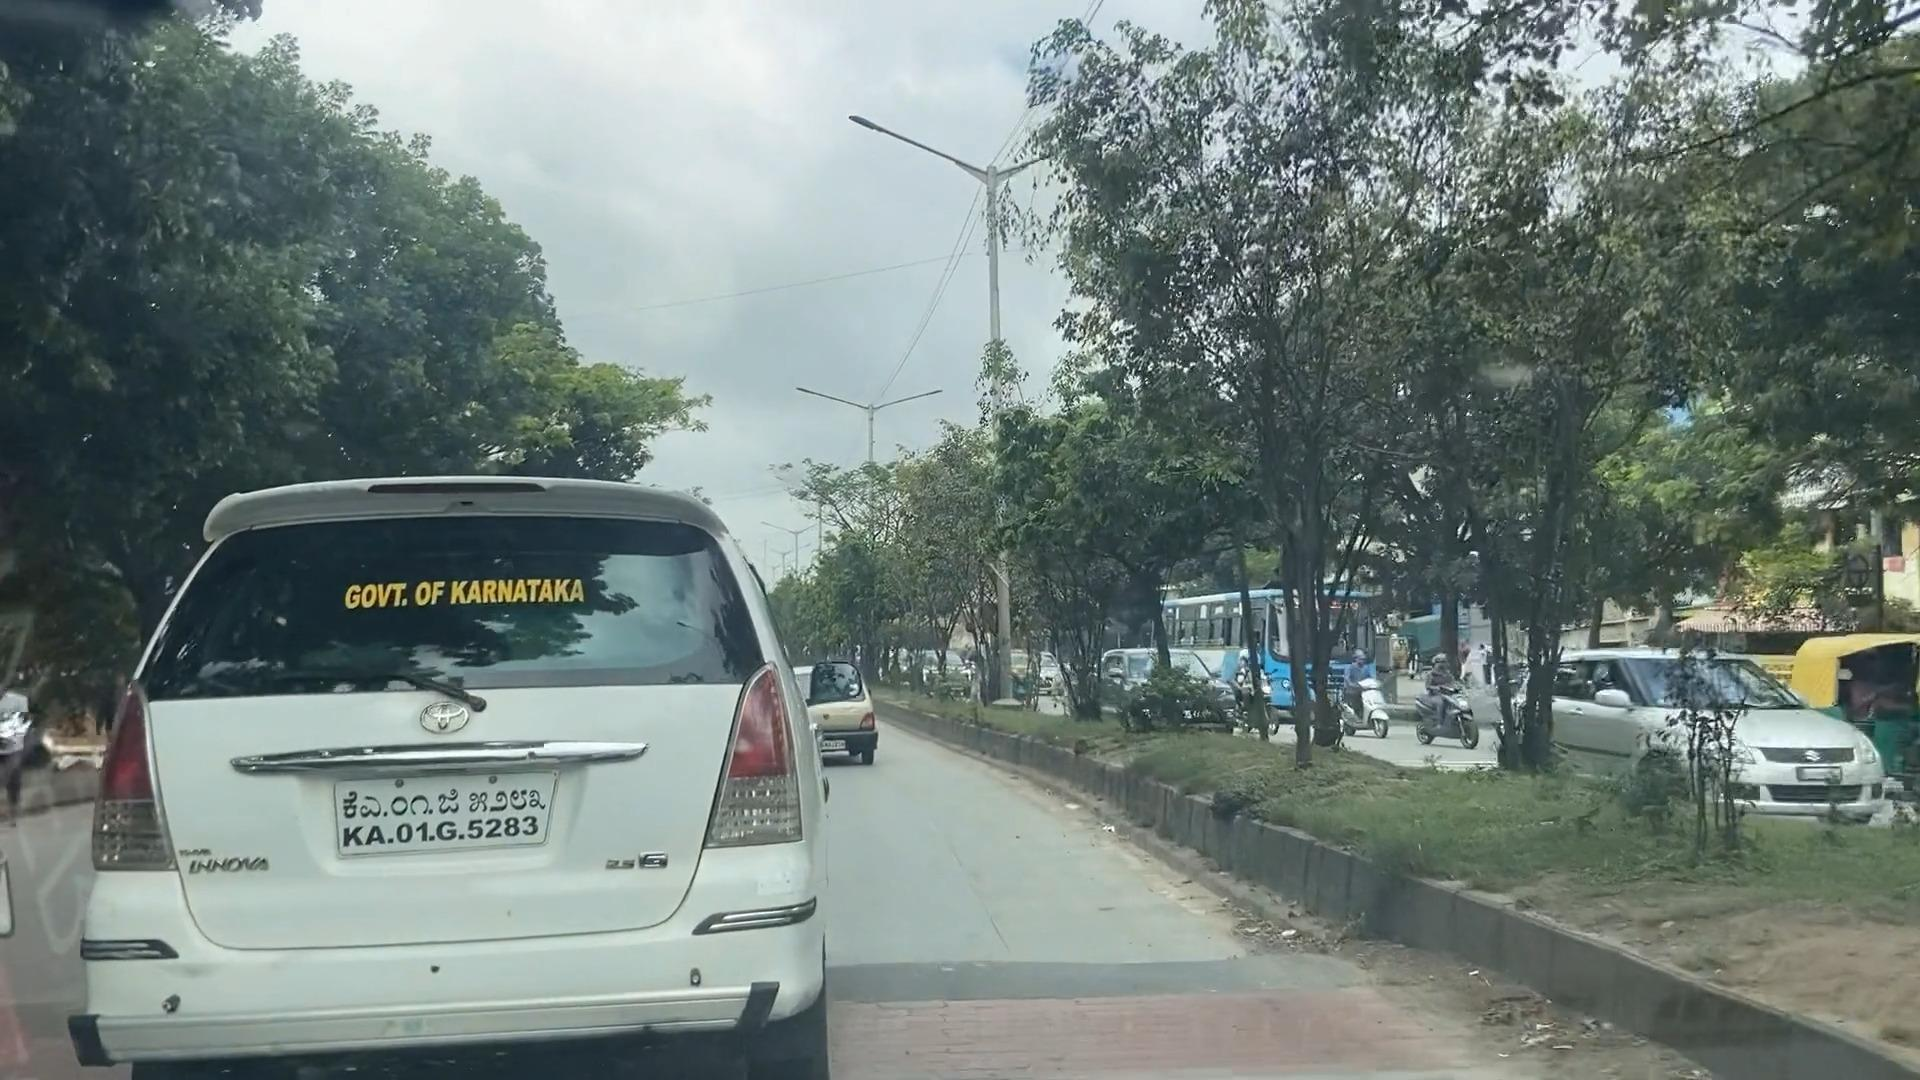LMV: (1396, 629, 1487, 750)
